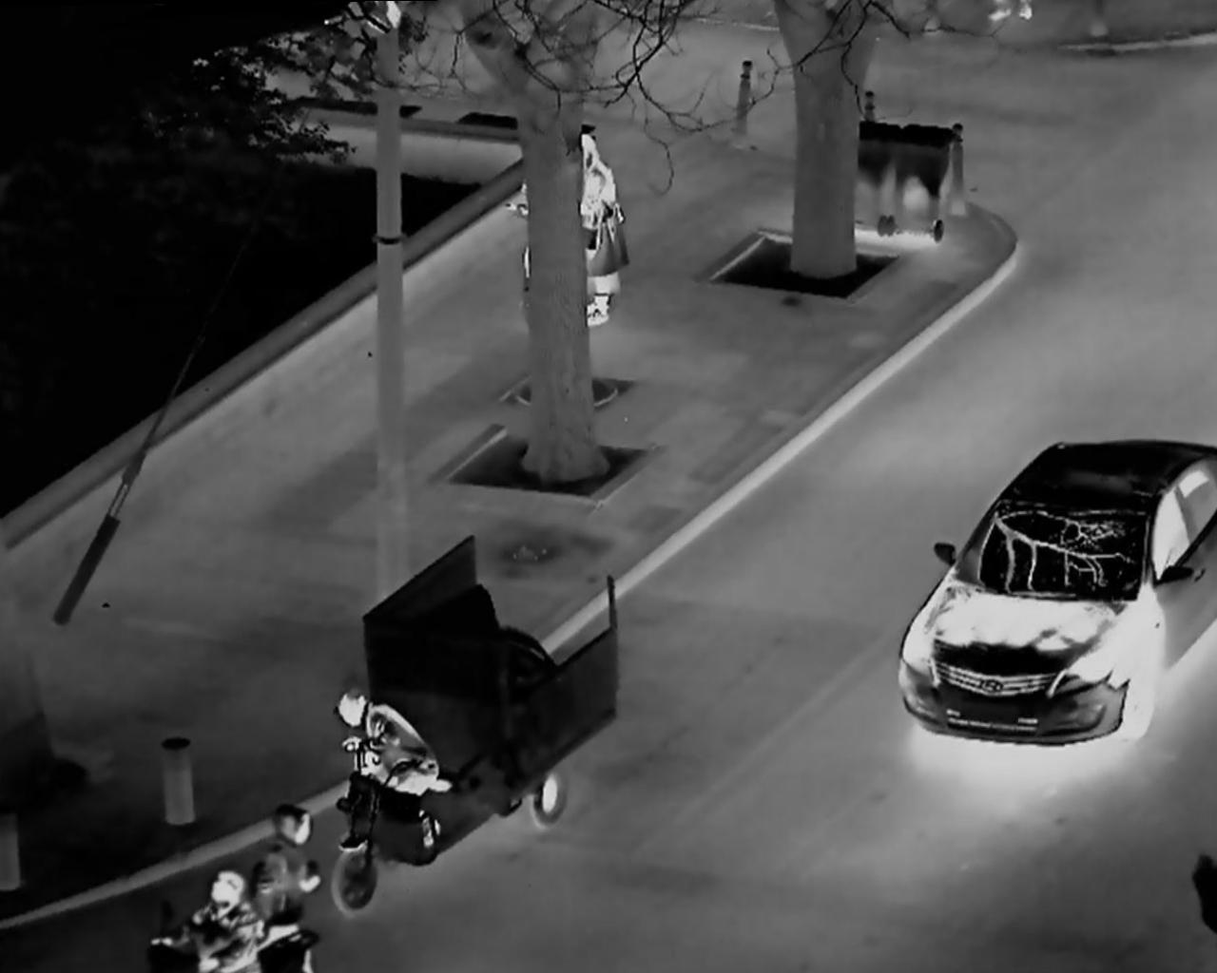person: (323, 671, 446, 849), (571, 121, 643, 325), (176, 864, 258, 973), (251, 807, 323, 920)
